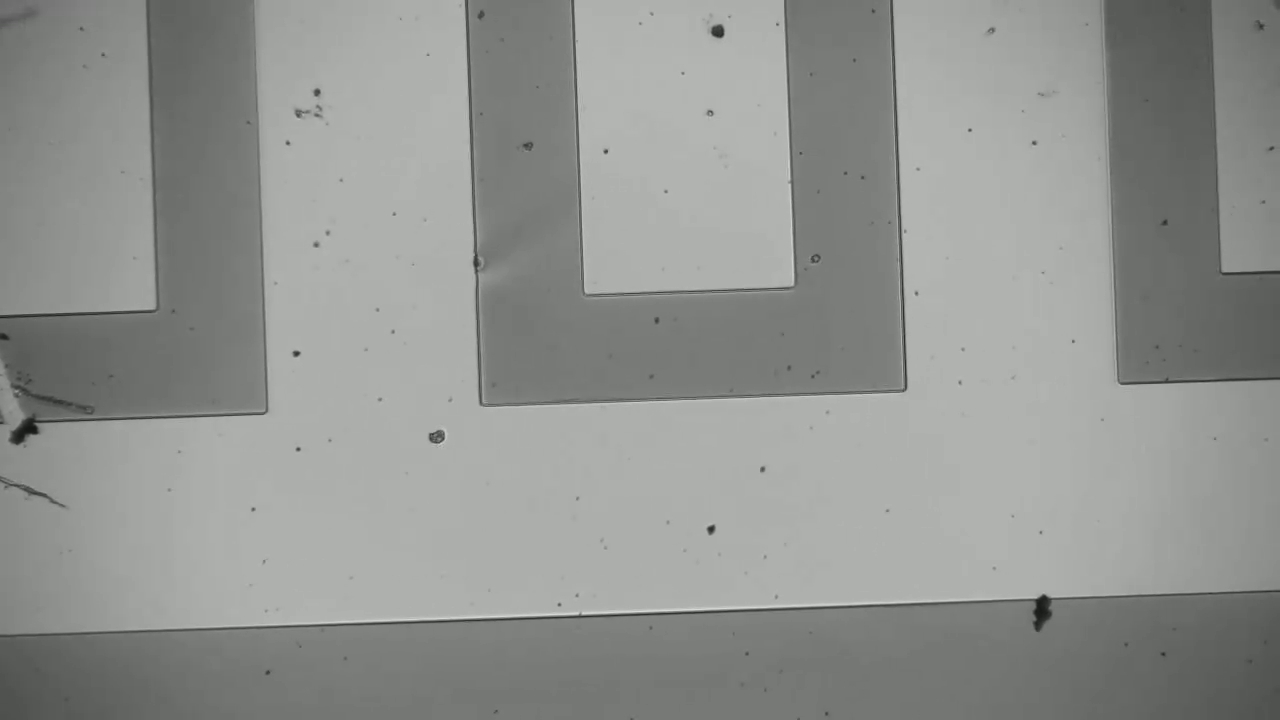Short_circuit: (1, 299, 51, 442)
